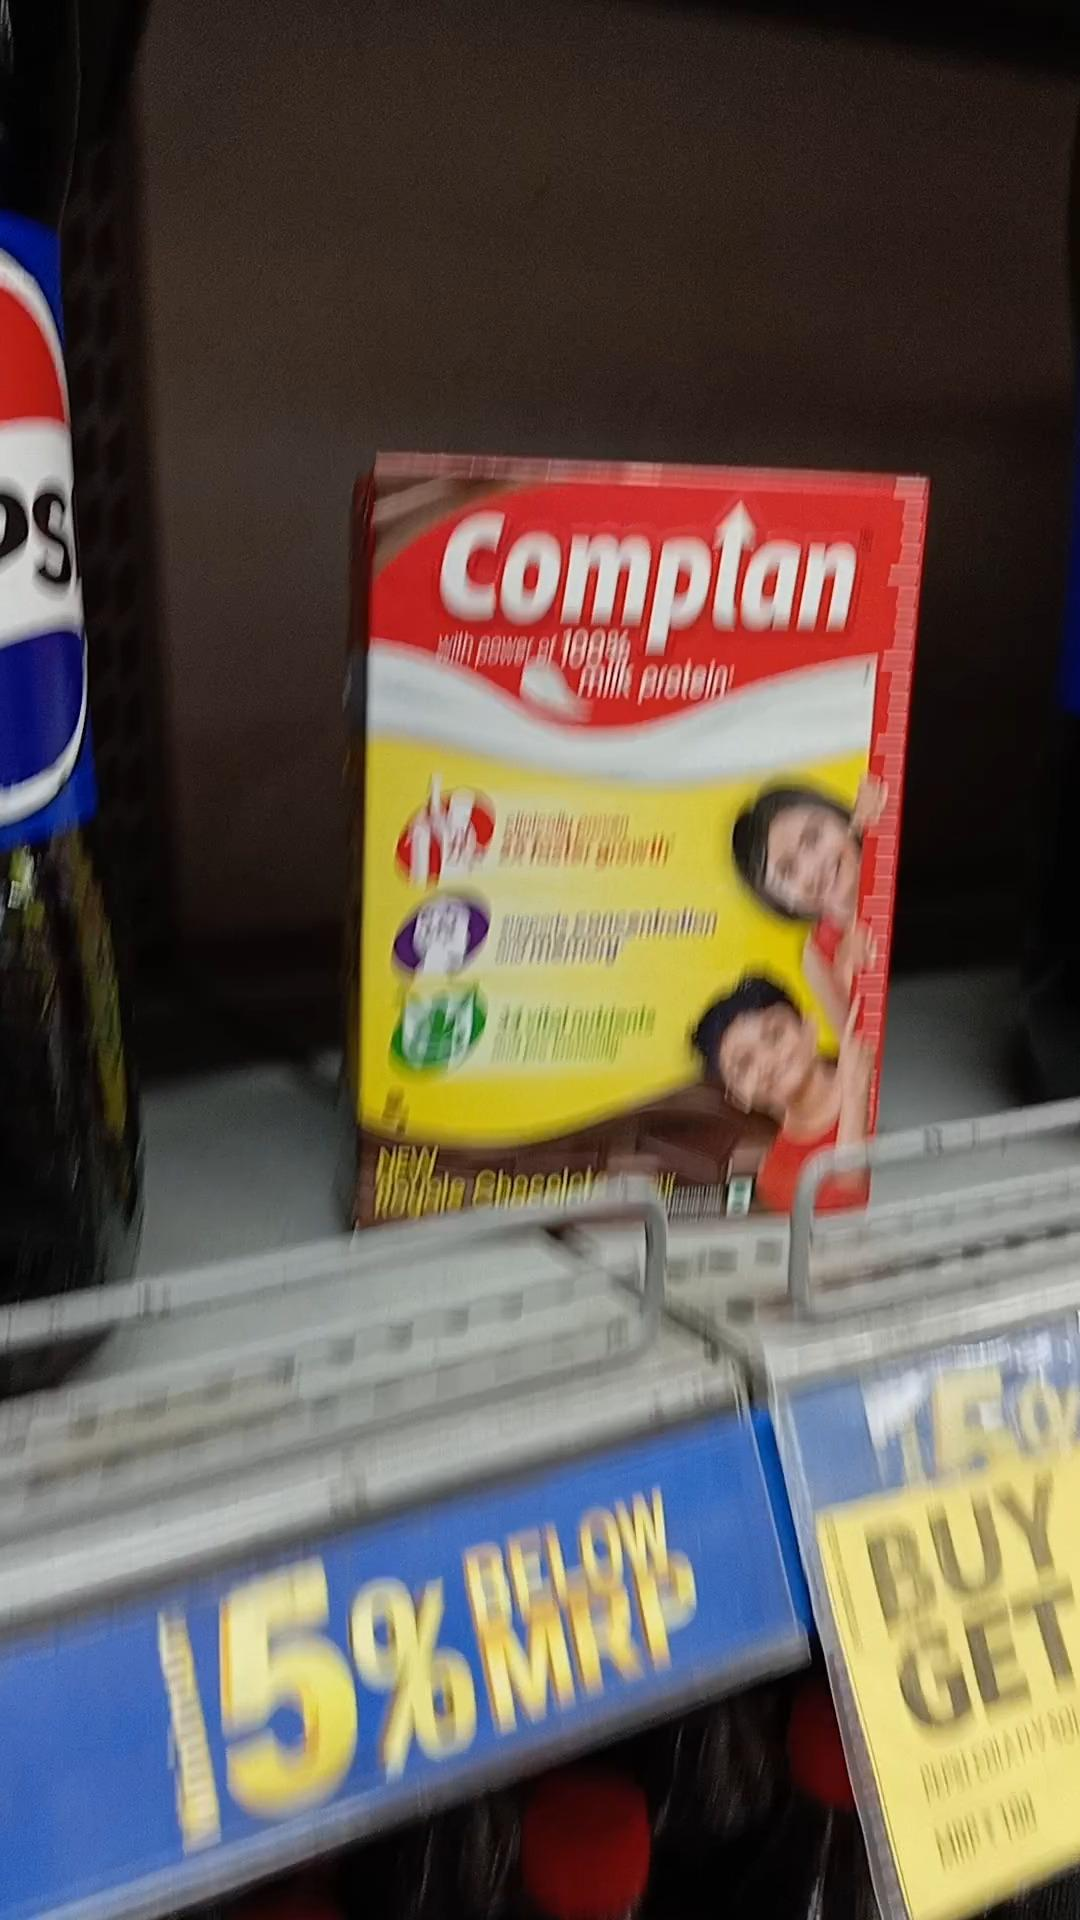COMPLAN_CHOCOLATE_200_GMS_PACK: (375, 465, 876, 1215)
